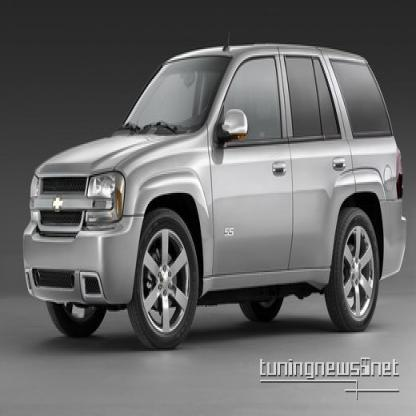Vehicle: (23, 32, 407, 354)
